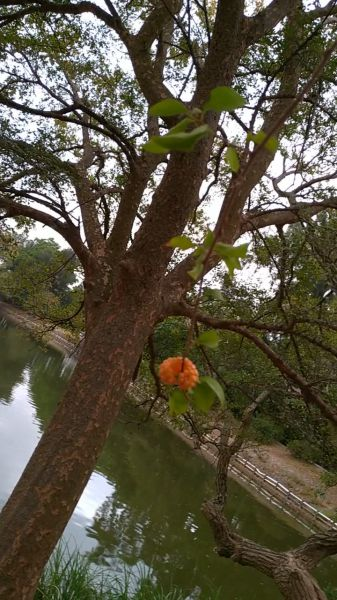eggs: (159, 352, 201, 399)
